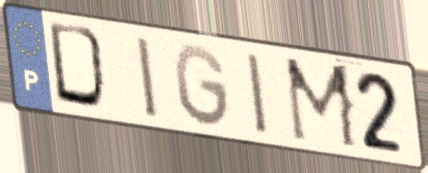2: (355, 70, 412, 158)
D: (46, 18, 114, 115)
G: (171, 41, 233, 131)
I: (133, 33, 162, 123), (244, 49, 272, 139)
M: (281, 55, 362, 154)
